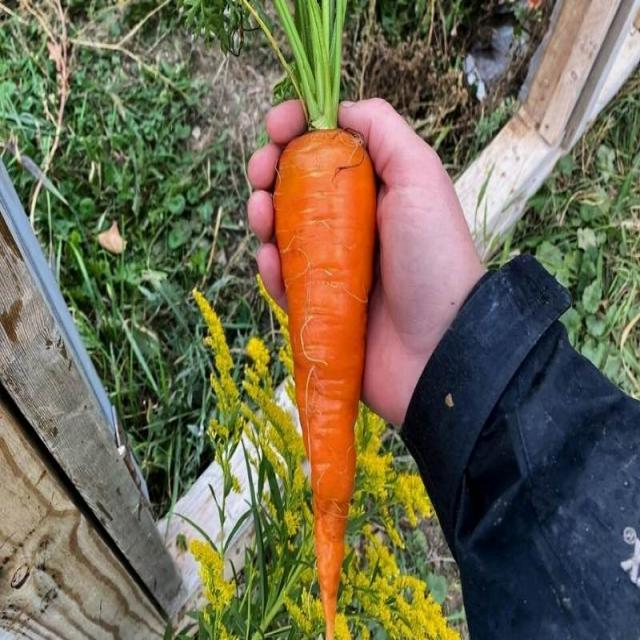carrot: (274, 126, 381, 640)
